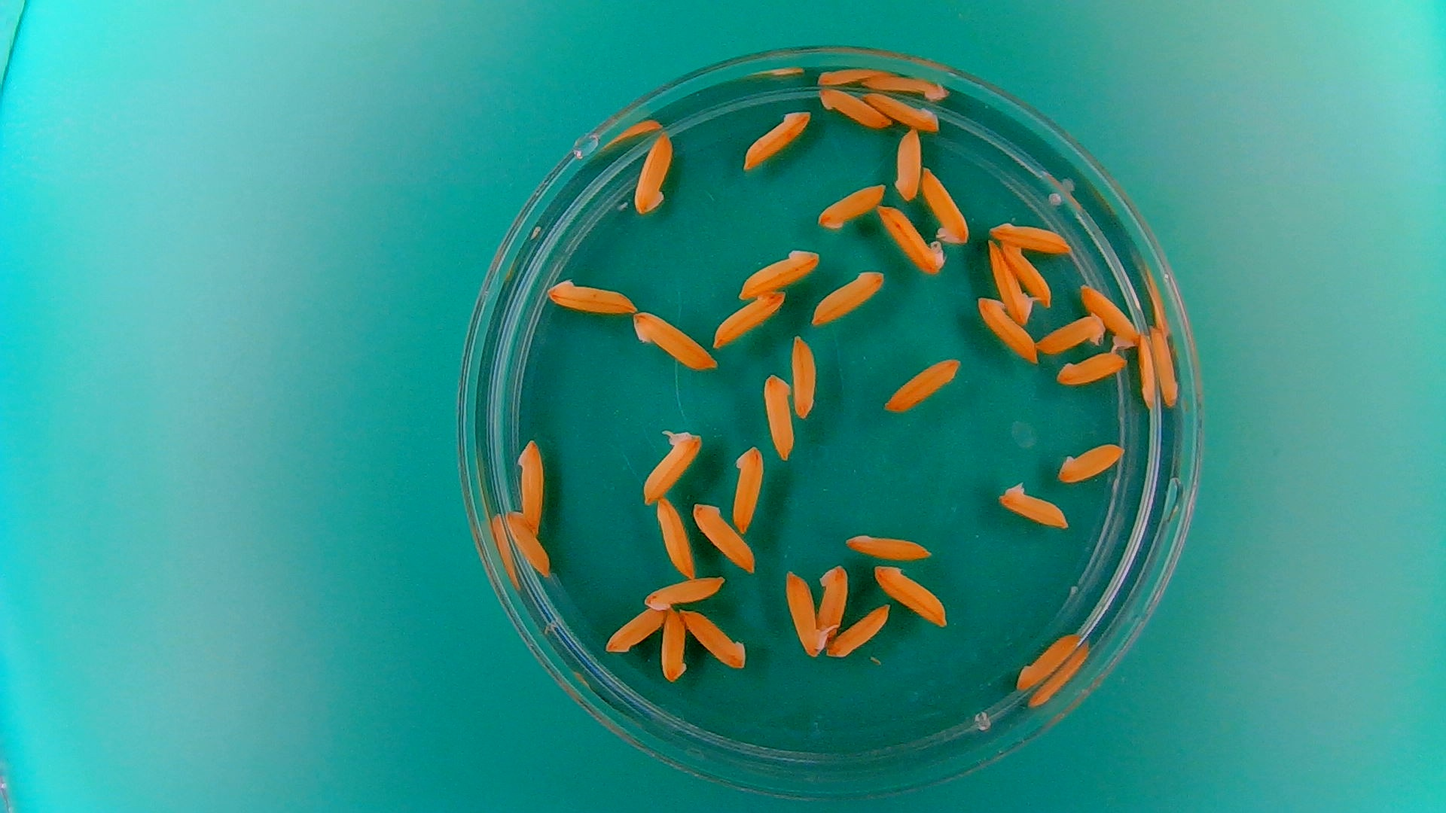no: (626, 307, 718, 373), (874, 202, 947, 276), (872, 562, 951, 626), (691, 499, 758, 573), (882, 353, 963, 414), (735, 243, 822, 299), (709, 288, 788, 348), (740, 106, 813, 170), (679, 604, 750, 669), (975, 292, 1037, 365), (809, 268, 887, 325), (1013, 630, 1083, 693), (543, 274, 640, 317), (919, 166, 971, 245), (995, 479, 1072, 529), (827, 601, 893, 659), (632, 129, 675, 216), (999, 239, 1053, 306), (815, 181, 886, 231), (654, 494, 695, 580), (814, 84, 892, 129), (503, 507, 551, 579), (862, 89, 941, 132), (1035, 309, 1107, 355), (602, 604, 668, 654), (987, 217, 1072, 255), (1056, 440, 1127, 485), (731, 443, 766, 534), (843, 528, 935, 562), (760, 371, 795, 460), (514, 437, 546, 534), (815, 562, 850, 643), (1055, 350, 1128, 388), (789, 332, 819, 420), (891, 127, 923, 202), (659, 605, 688, 684), (1133, 329, 1158, 411)
yes: (639, 424, 703, 506), (986, 237, 1044, 324), (1078, 279, 1141, 349), (782, 567, 829, 657)
